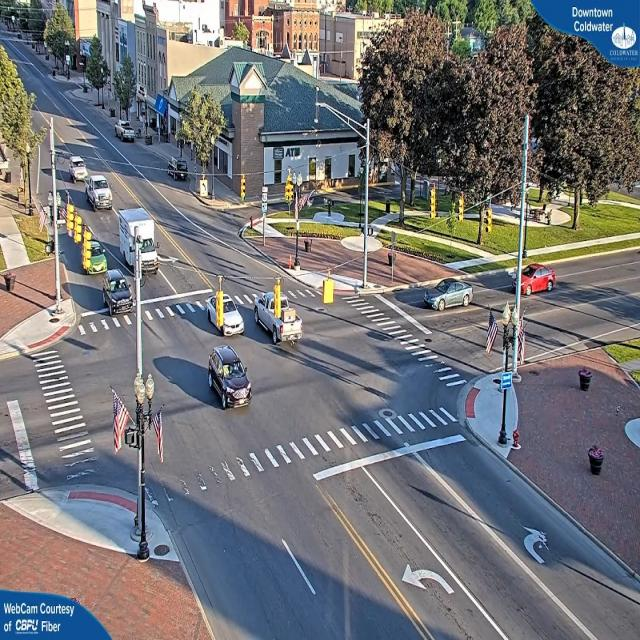car: (252, 287, 298, 349), (207, 348, 252, 409), (422, 276, 473, 310), (102, 270, 132, 315), (524, 262, 557, 295), (218, 293, 244, 334), (84, 175, 112, 211), (85, 239, 107, 277), (164, 159, 190, 180), (116, 123, 136, 143)
truck: (120, 211, 161, 276)
